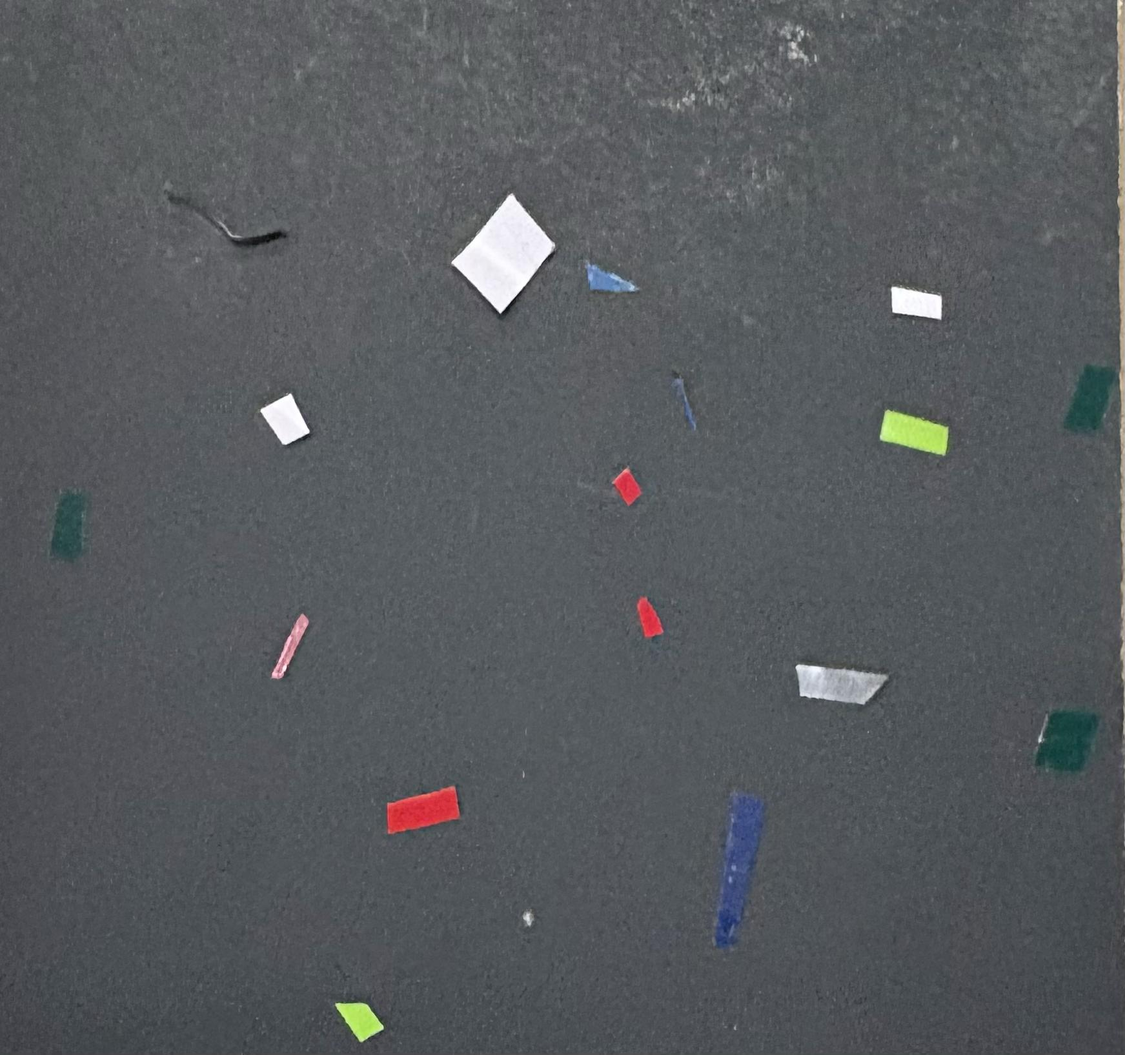Microplastic Particle: (452, 194, 554, 313), (714, 791, 764, 948), (165, 188, 287, 247), (794, 661, 889, 705), (1035, 709, 1099, 772), (253, 377, 310, 445), (878, 403, 948, 456), (1064, 364, 1117, 432), (387, 785, 460, 834), (50, 490, 88, 561), (271, 612, 309, 679), (334, 1001, 383, 1041), (889, 285, 943, 320), (583, 259, 638, 292), (671, 370, 696, 430), (612, 465, 642, 505), (636, 596, 663, 639), (521, 909, 534, 928)
